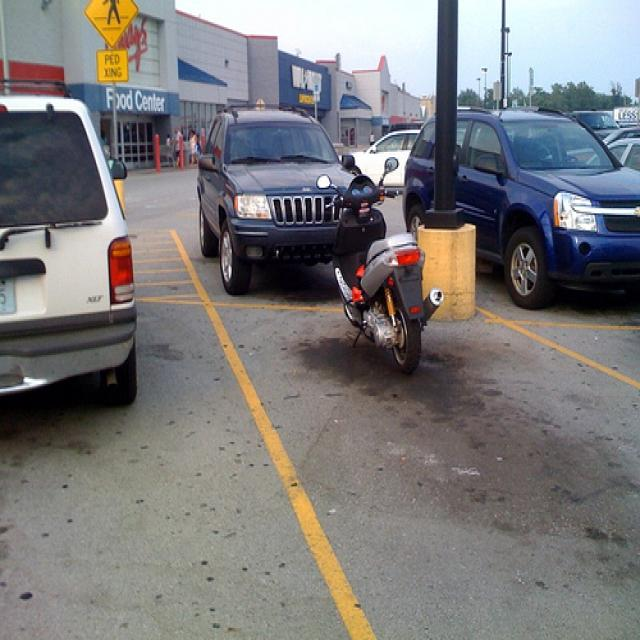motor: (319, 163, 443, 367)
